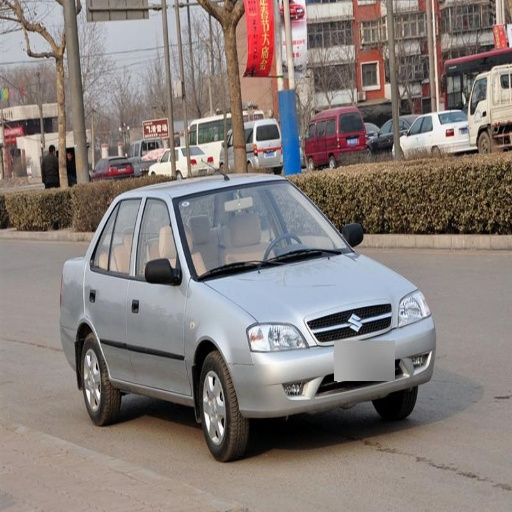front_bumper: (231, 299, 432, 413)
front_right_door: (129, 196, 186, 393)
front_right_light: (247, 322, 306, 352)
hood: (209, 251, 412, 322)
